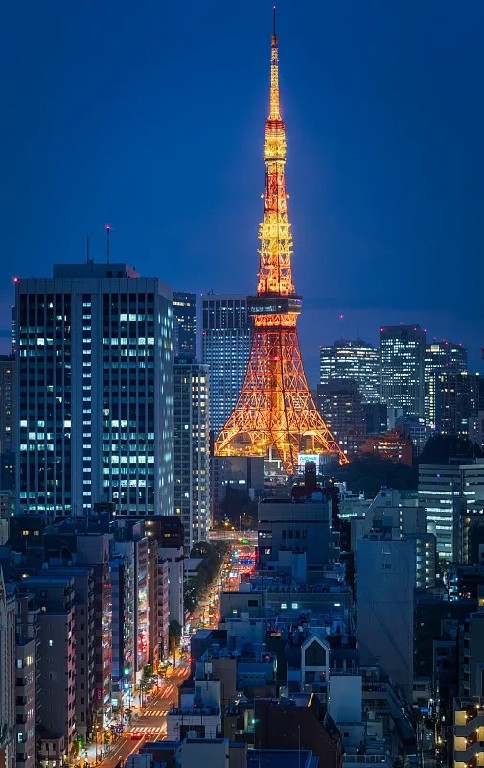Tokyo: (212, 5, 351, 470)
